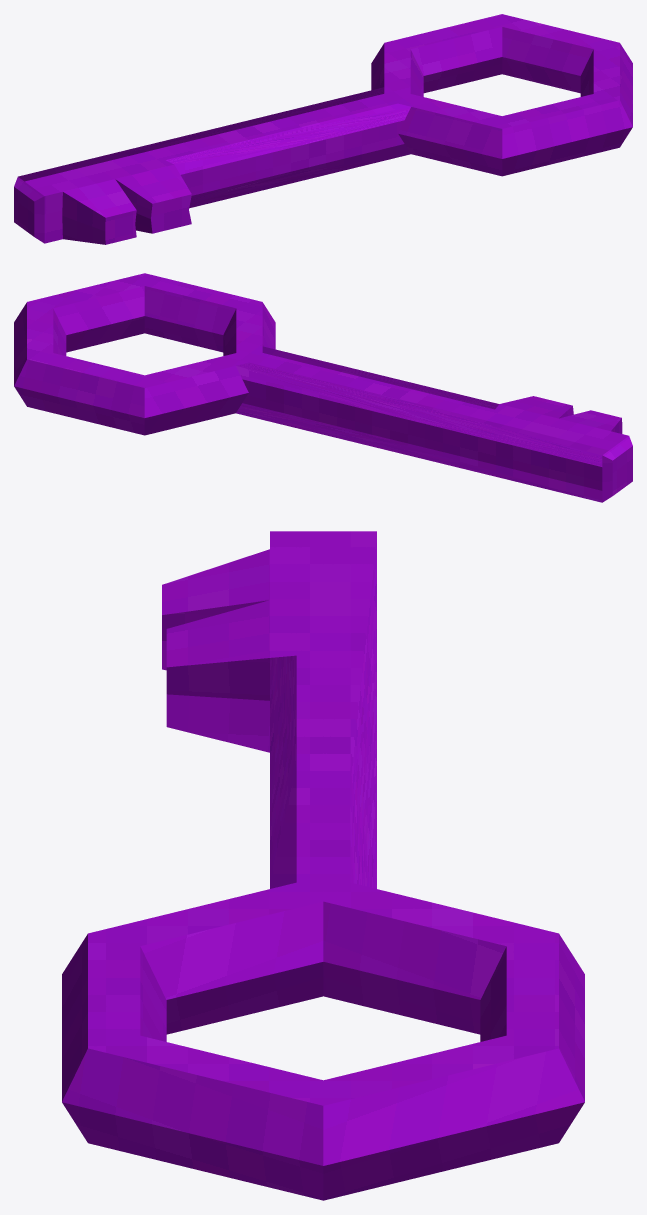
File: key.glb
3 renders of one model, top to bottom at view 1: azimuth 30°, elevation 25°; view 2: azimuth 150°, elevation 25°; view 3: azimuth 270°, elevation 25°, orthographic. The views are drawn at different scales.
Parts seen in each view (by area): view 1: Torus; view 2: Torus; view 3: Torus.
Boxes of the visible parts, bbox=[...] form: Torus: bbox=[14, 14, 632, 244]; Torus: bbox=[14, 273, 632, 502]; Torus: bbox=[62, 531, 584, 1200].
Bounding box in the file's own units: 5.82 × 0.433 × 2.17.
Materials: 1 (1 with a texture image).
